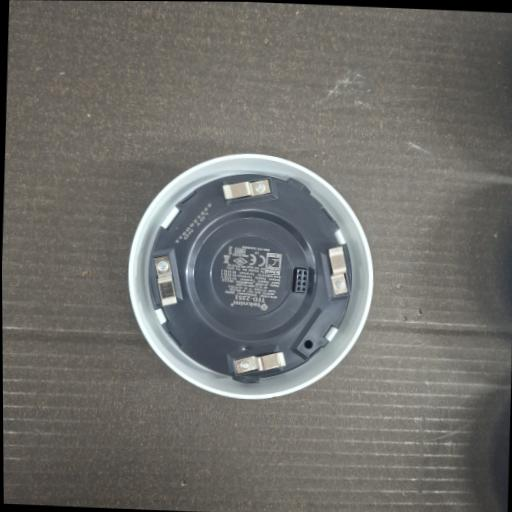yaysiz: (149, 247, 185, 310), (225, 342, 275, 382), (319, 247, 352, 303), (220, 175, 272, 203)
